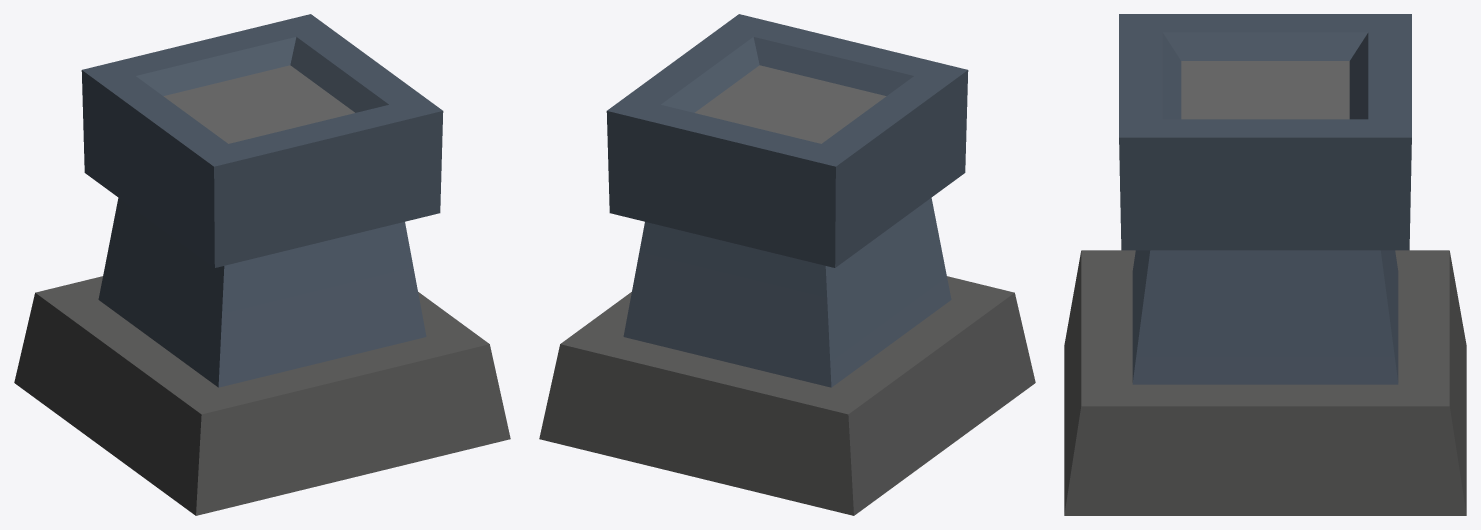
Rendered from Chimney_3_C_3.glb.
3 views of the same model, side by side, from view 1: azimuth 30°, elevation 25°; view 2: azimuth 150°, elevation 25°; view 3: azimuth 270°, elevation 25° (orthographic). The views are drawn at different scales.
Parts seen in each view (by area): view 1: Chimney_3_C_3; view 2: Chimney_3_C_3; view 3: Chimney_3_C_3.
Part boxes in pixels (bbox=[...]): Chimney_3_C_3: bbox=[14, 14, 510, 515]; Chimney_3_C_3: bbox=[539, 14, 1035, 515]; Chimney_3_C_3: bbox=[1064, 14, 1466, 515].
Bounding box in the file's own units: 0.6113 × 0.595 × 0.6113.
Materials: 1 (1 with a texture image).
